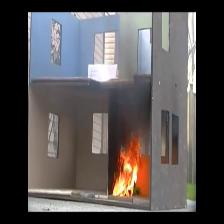fire: (116, 141, 140, 195)
smoke: (116, 88, 145, 130)
